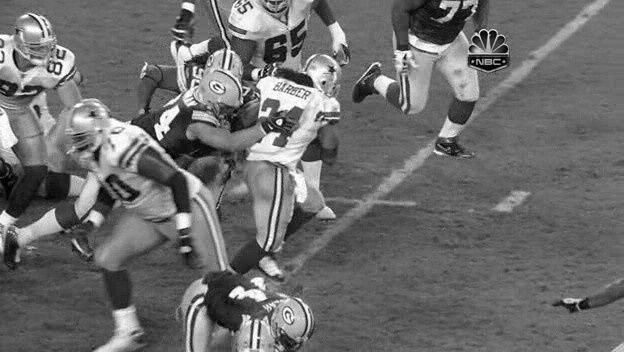person: (308, 52, 342, 96), (307, 52, 341, 96), (309, 52, 343, 96), (308, 51, 342, 95), (308, 53, 342, 97)
target_negative: (194, 96, 466, 267), (543, 169, 610, 336), (478, 6, 484, 137), (560, 122, 571, 180), (475, 307, 497, 313)
